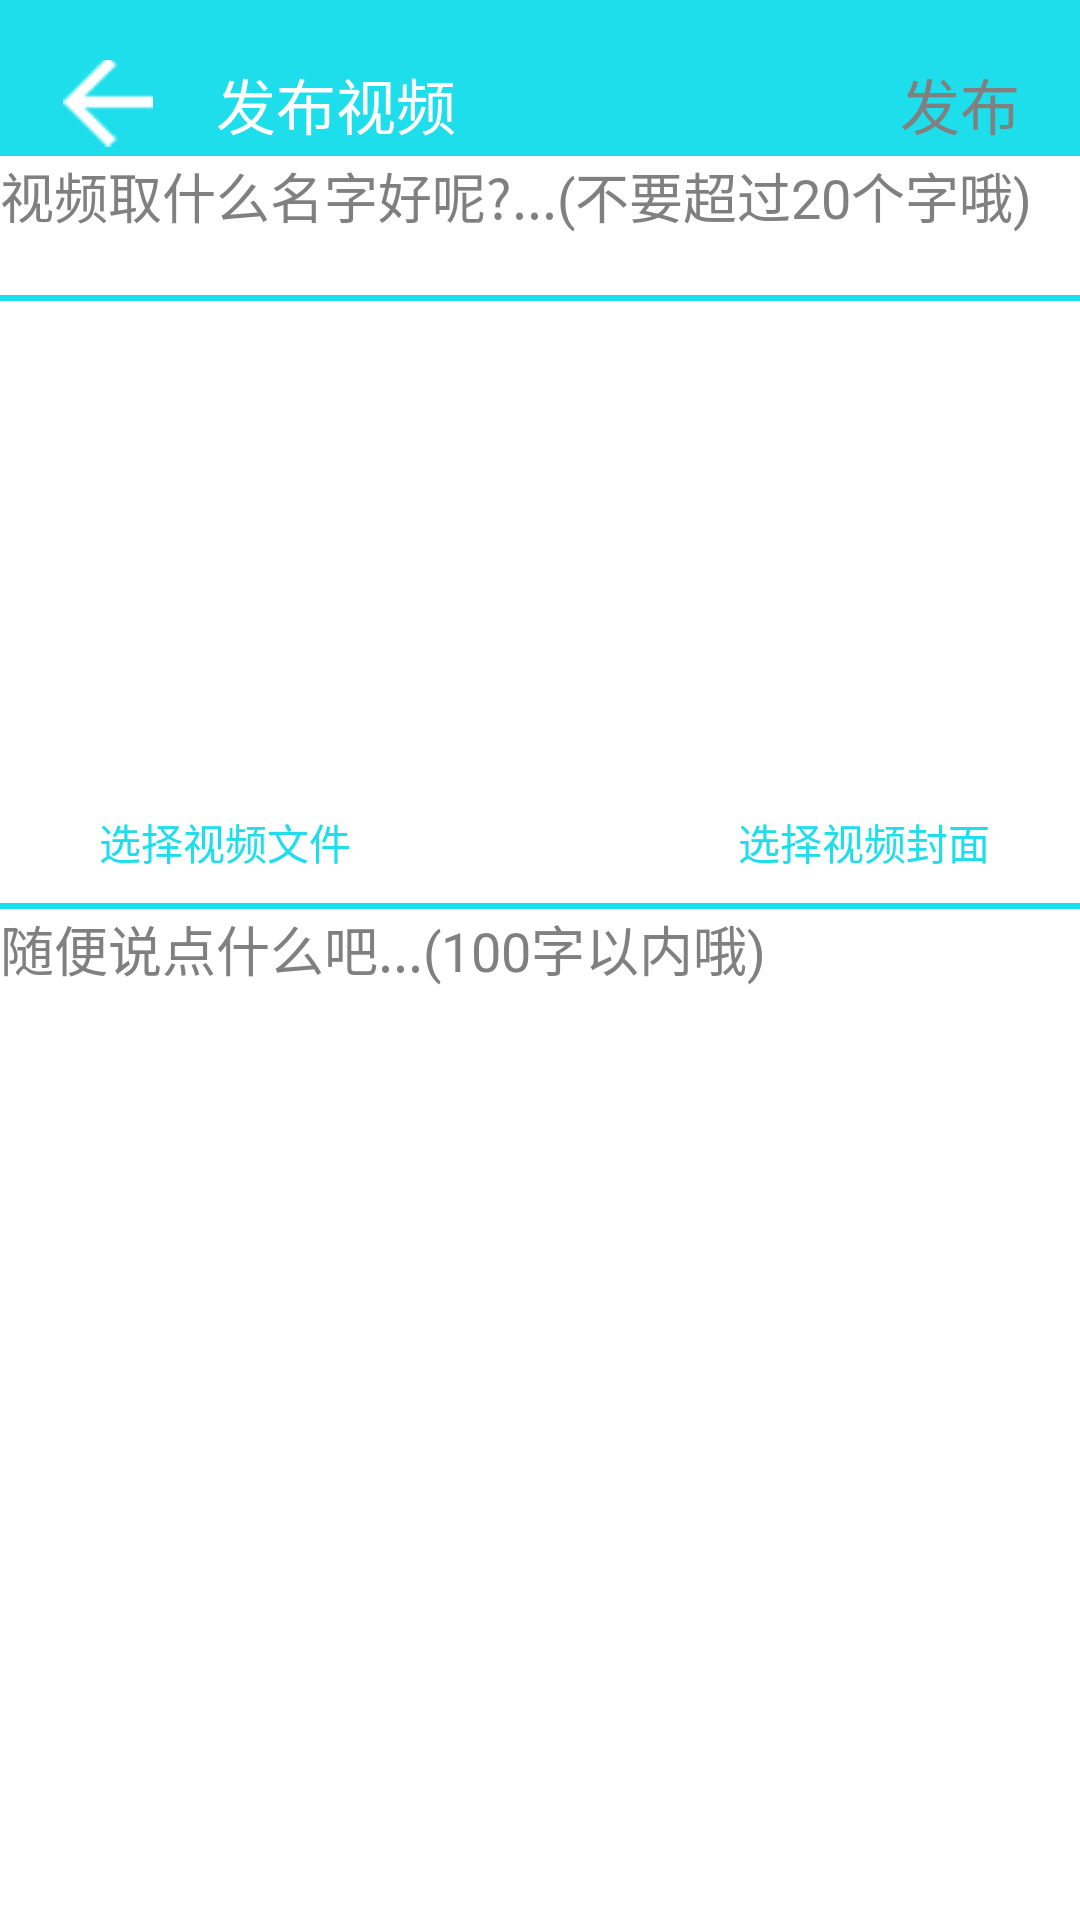

Where icons sit on this 1080w x 1920h app screen, as (x1, y1, x2, y2):
arrow back: (63, 60, 153, 147)
